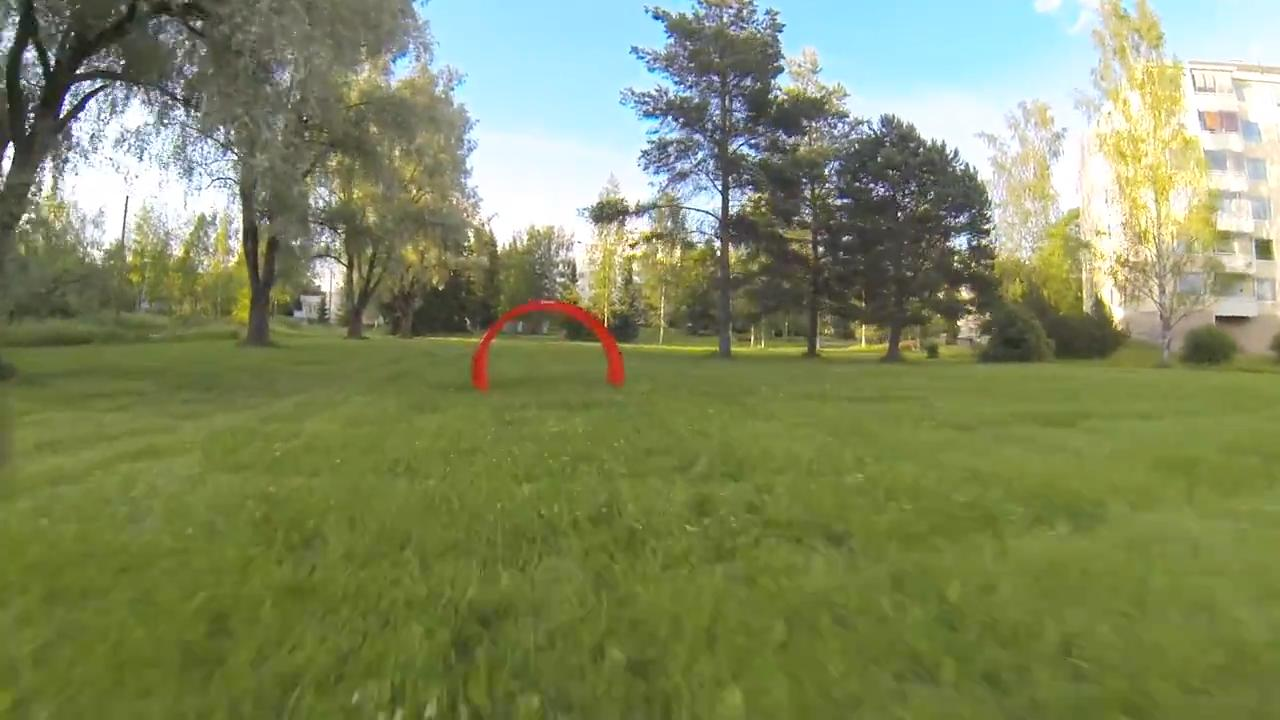gate: (467, 298, 631, 391)
